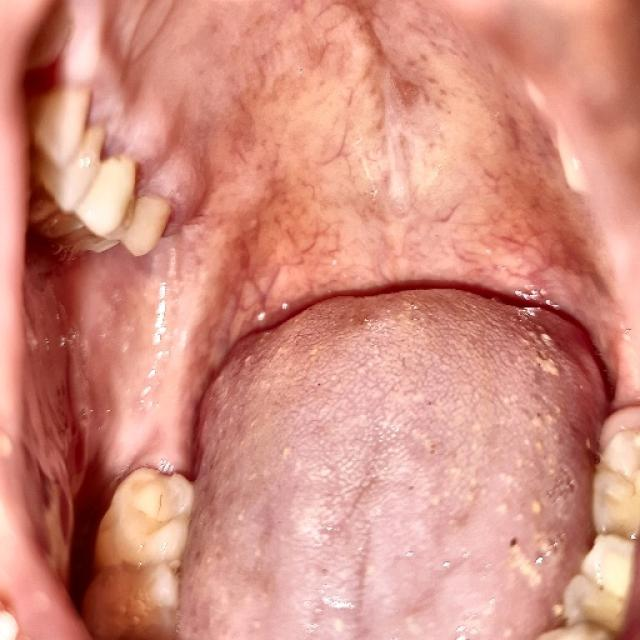processing_area: (6, 0, 639, 639)
